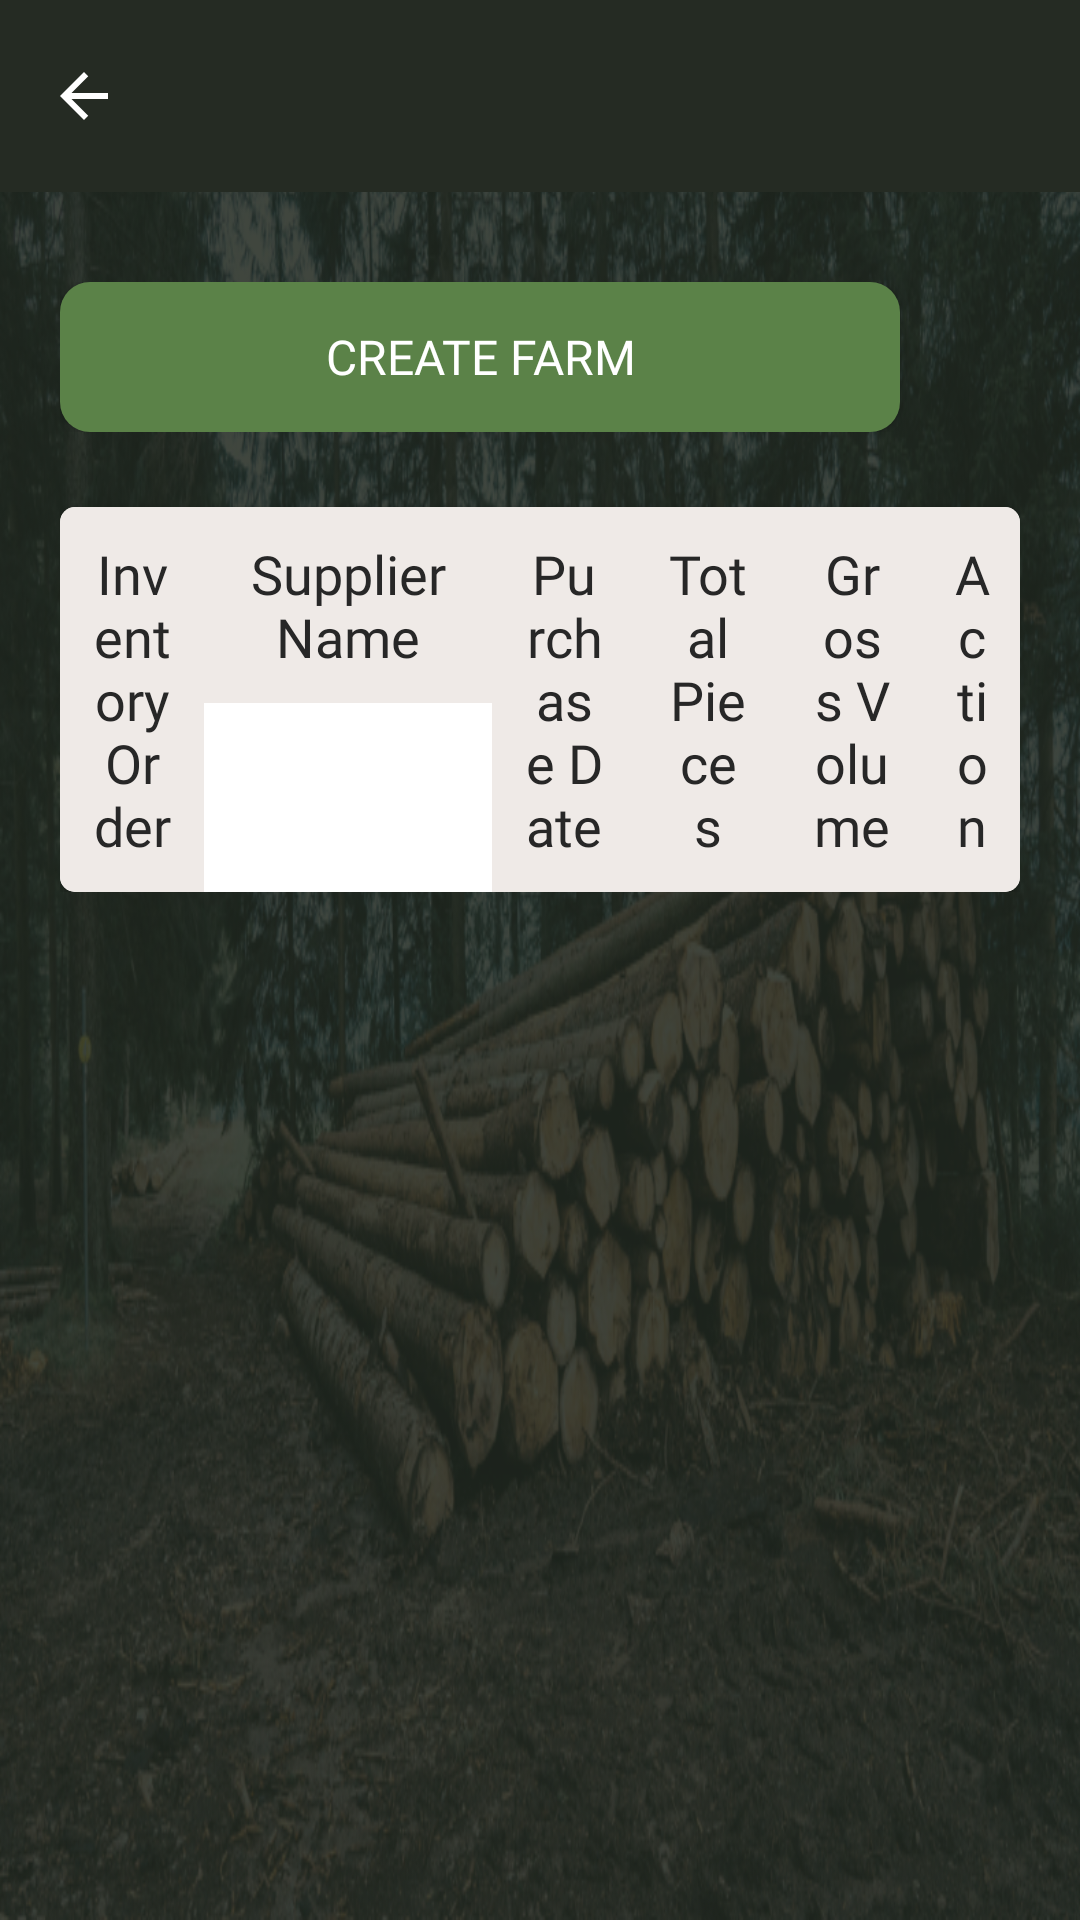

Screen size 1080w x 1920h. Icon name, then its center in pixels as [x,y]:
back: [84,96]
